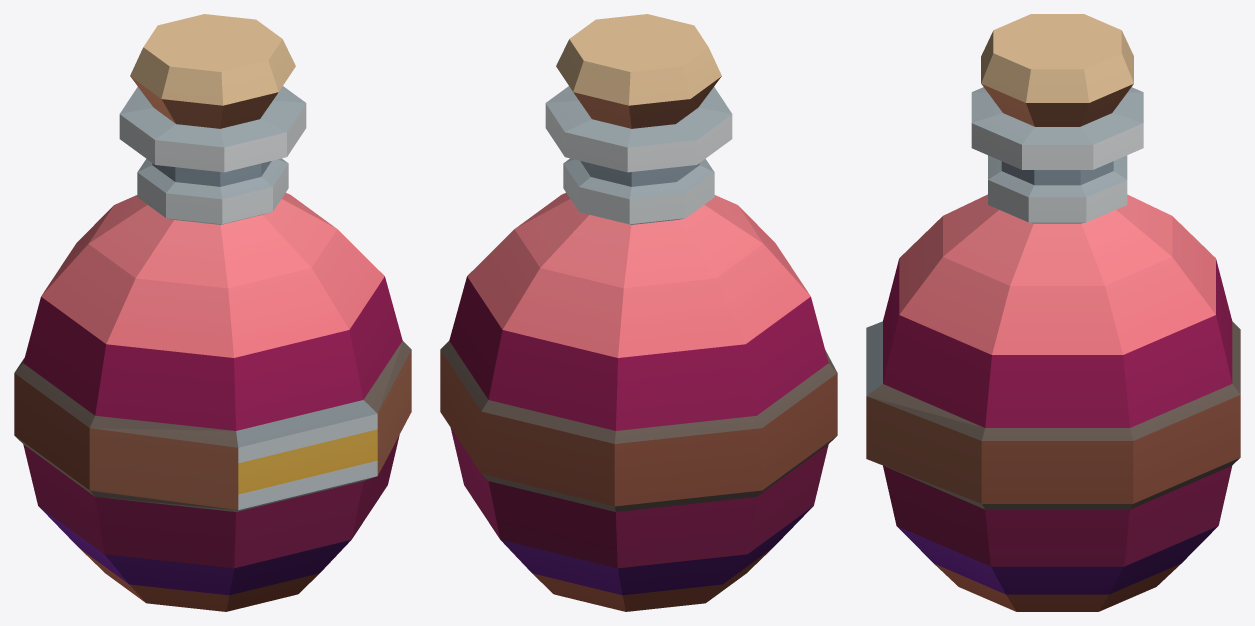
File: potion_large_magenta.glb
3 renders of one model, left to right at view 1: azimuth 30°, elevation 25°; view 2: azimuth 150°, elevation 25°; view 3: azimuth 270°, elevation 25°, orthographic.
Visible parts, largest first — view 1: model; view 2: model; view 3: model.
Part boxes in pixels (x1,y1,x2,y2): model: (14,14,411,611); model: (440,14,837,611); model: (866,14,1240,611).
Bounding box in the file's own units: 0.72 × 1.12 × 0.72.
1 material, 1 textured.
